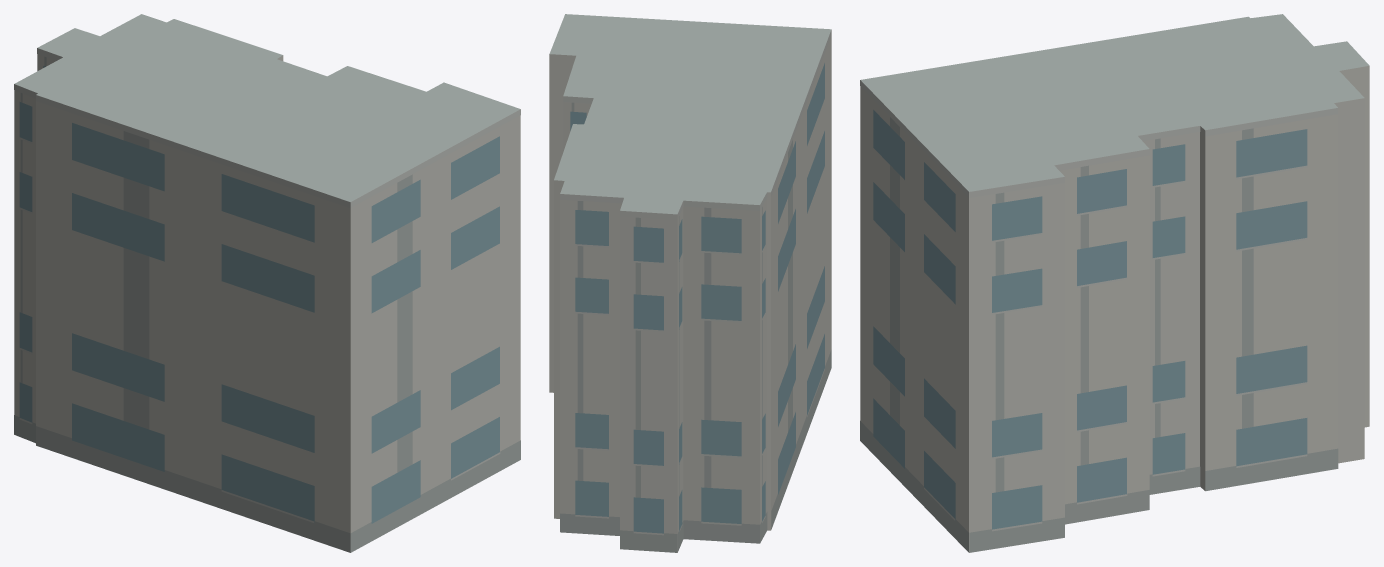
Rendered from survey-upis-32941059.glb.
3 views of the same model, side by side, from view 1: azimuth 30°, elevation 25°; view 2: azimuth 150°, elevation 25°; view 3: azimuth 270°, elevation 25° (orthographic). The views are drawn at different scales.
Parts seen in each view (by area): view 1: survey-upis-32941059.tmp; view 2: survey-upis-32941059.tmp; view 3: survey-upis-32941059.tmp.
Part boxes in pixels (x1,y1,x2,y2): survey-upis-32941059.tmp: [14, 14, 520, 552]; survey-upis-32941059.tmp: [549, 14, 831, 552]; survey-upis-32941059.tmp: [860, 14, 1369, 552].
Size of the model in its own units: 14.92 by 14.1 by 18.05.
